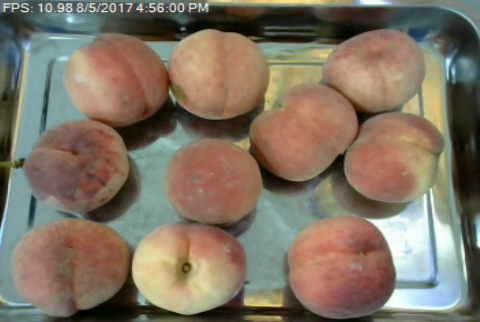Peach: (12, 217, 129, 315), (286, 215, 397, 318), (248, 80, 360, 181), (133, 222, 246, 316), (318, 26, 429, 116), (25, 118, 131, 212), (65, 32, 169, 126), (342, 112, 446, 203), (170, 29, 268, 120), (164, 137, 261, 225)
